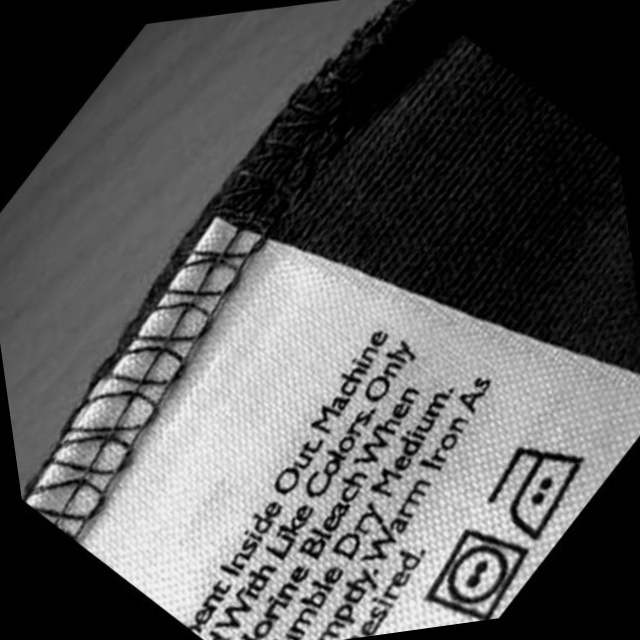iron_medium: (483, 436, 600, 543)
tumble_dry_medium: (419, 522, 540, 626)
